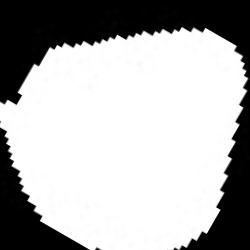spot: (1, 25, 249, 248)
